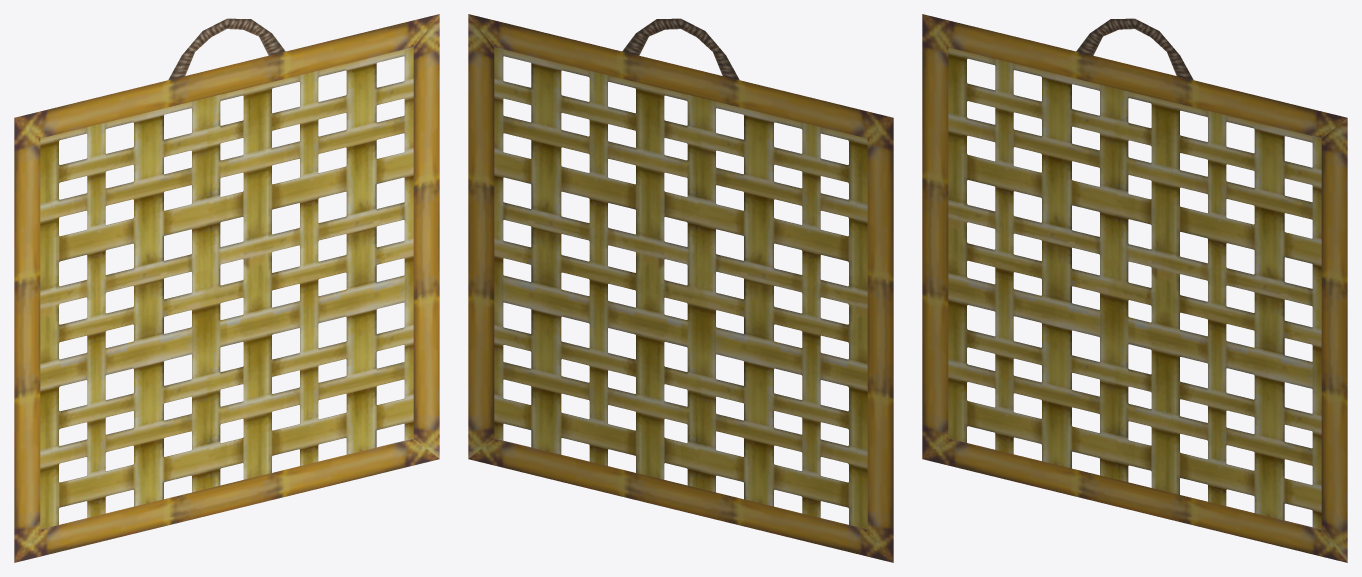
Rendered from bamboofence_rail.dae.
3 views of the same model, side by side, from view 1: azimuth 30°, elevation 25°; view 2: azimuth 150°, elevation 25°; view 3: azimuth 330°, elevation 25° (orthographic).
Parts seen in each view (by area): view 1: m1, m0; view 2: m1, m0; view 3: m1, m0.
Part boxes in pixels (x1,y1,x2,y2): m1: [40, 47, 413, 529]; m0: [14, 14, 439, 562]; m1: [494, 47, 867, 529]; m0: [468, 14, 893, 562]; m1: [948, 47, 1321, 529]; m0: [922, 14, 1347, 562].
Size of the model in its own units: 600 by 664 by 0.
Materials: 2 (2 with a texture image).
